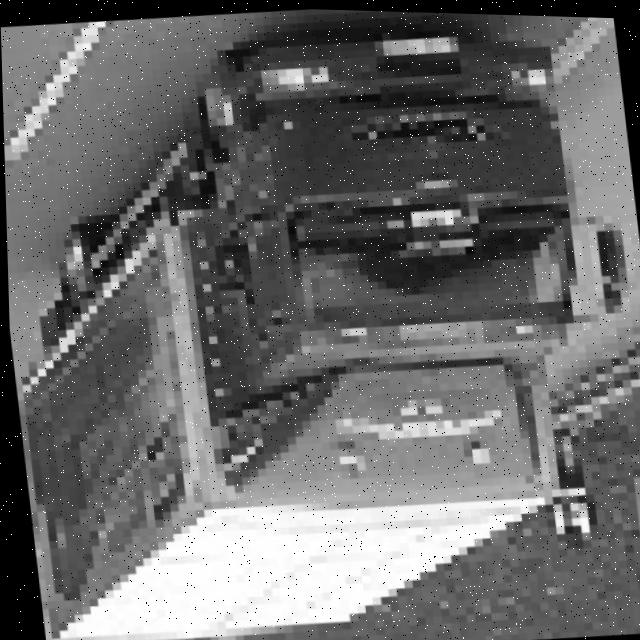truck: (142, 15, 640, 550)
